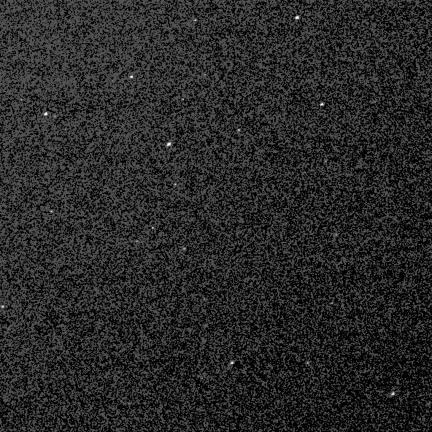blob: (320, 103, 325, 107), (44, 112, 48, 117), (230, 361, 234, 364), (130, 76, 134, 79), (167, 143, 171, 146), (295, 16, 299, 19), (238, 129, 241, 132), (152, 227, 155, 230), (2, 306, 5, 309), (195, 19, 198, 22), (51, 211, 53, 214), (174, 184, 177, 186)
